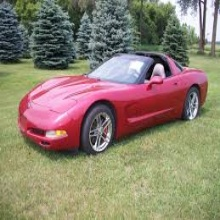no damage: (17, 50, 209, 154)
